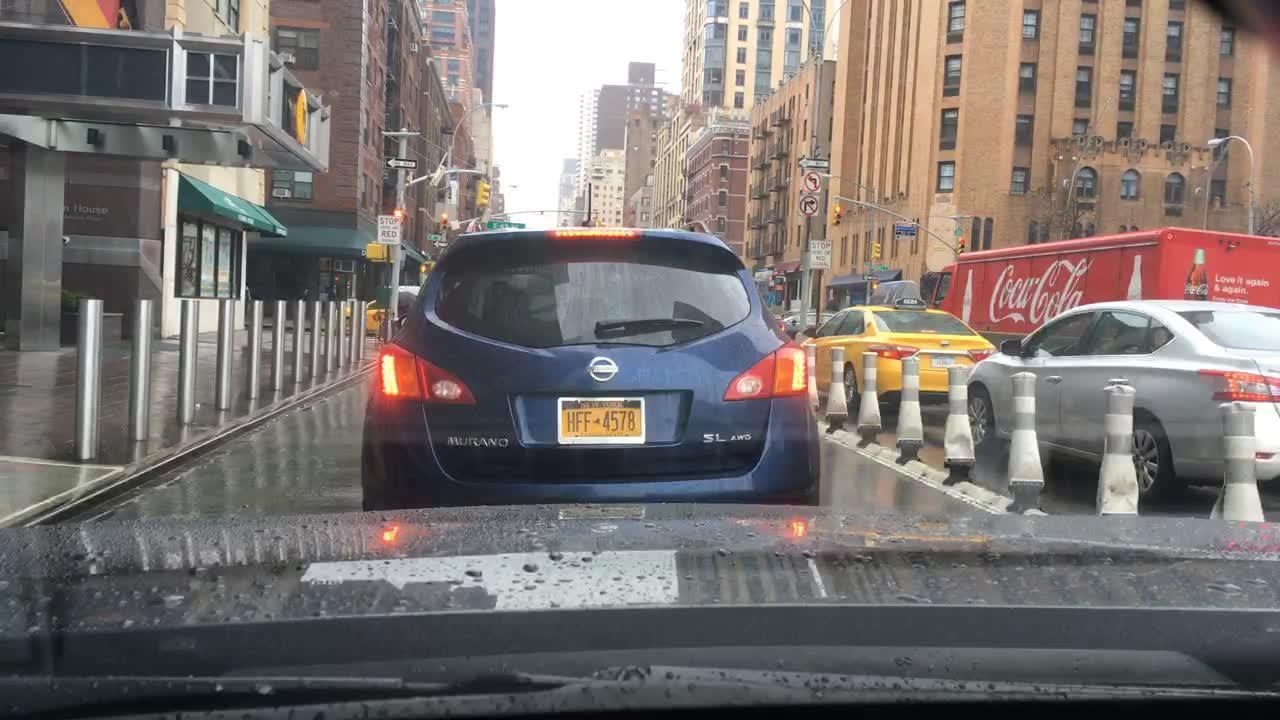Nissan: (578, 351, 631, 391)
